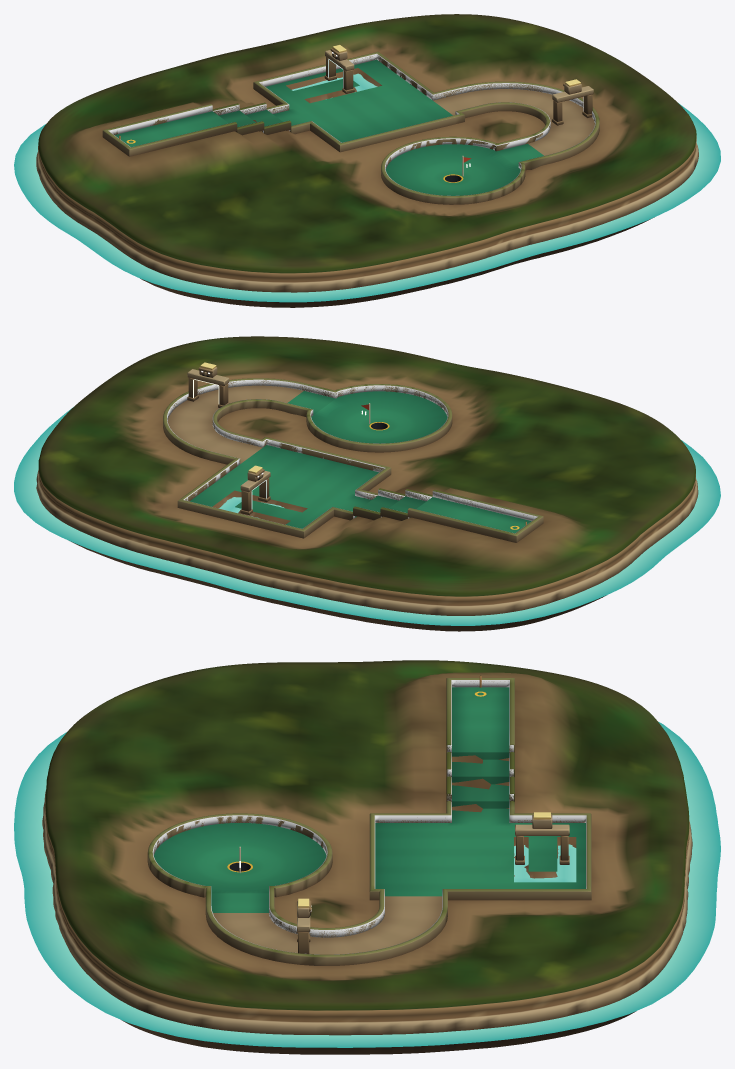
Rendered from course-11.glb.
3 views of the same model, one above another, from view 1: azimuth 30°, elevation 25°; view 2: azimuth 150°, elevation 25°; view 3: azimuth 270°, elevation 25° (orthographic). The views are drawn at different scales.
Visible parts, largest first — view 1: scenery-matte, floor-felt, water-shore, rail-trim, rail-stone, floor-sand; view 2: scenery-matte, floor-felt, water-shore, rail-trim, rail-stone, floor-sand; view 3: scenery-matte, floor-felt, water-shore, rail-trim, floor-sand, rail-stone, scenery-water.
Part boxes in pixels (bbox=[...]): scenery-matte: bbox=[36, 14, 698, 307]; floor-felt: bbox=[115, 59, 543, 195]; water-shore: bbox=[14, 103, 720, 302]; rail-trim: bbox=[102, 51, 599, 204]; rail-stone: bbox=[108, 53, 595, 195]; floor-sand: bbox=[433, 89, 594, 155]; scenery-matte: bbox=[36, 336, 698, 631]; floor-felt: bbox=[190, 391, 531, 533]; water-shore: bbox=[14, 407, 720, 625]; rail-trim: bbox=[163, 378, 543, 542]; rail-stone: bbox=[167, 379, 537, 533]; floor-sand: bbox=[167, 385, 303, 463]; scenery-matte: bbox=[42, 660, 692, 1054]; floor-felt: bbox=[154, 687, 585, 912]; water-shore: bbox=[14, 722, 720, 1047]; rail-trim: bbox=[147, 678, 591, 965]; floor-sand: bbox=[213, 896, 442, 954]; rail-stone: bbox=[152, 680, 586, 954]; scenery-water: bbox=[514, 844, 576, 882].
Size of the model in its own units: 26.28 by 3.48 by 21.19.
